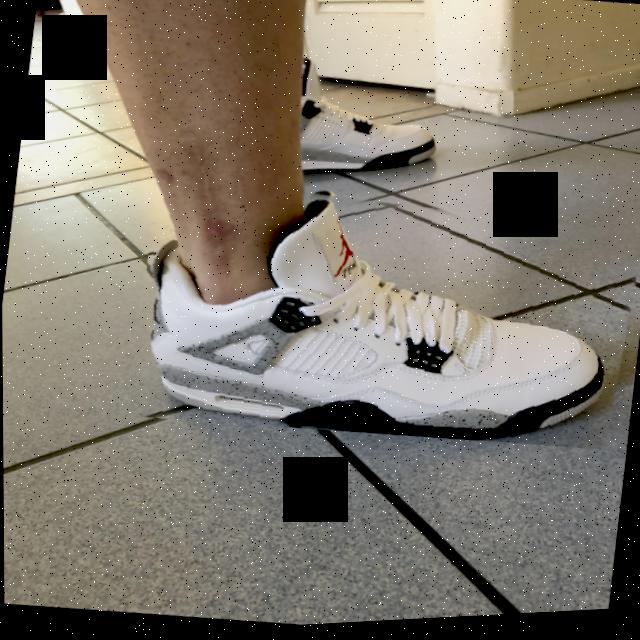shoe: (127, 156, 640, 477)
